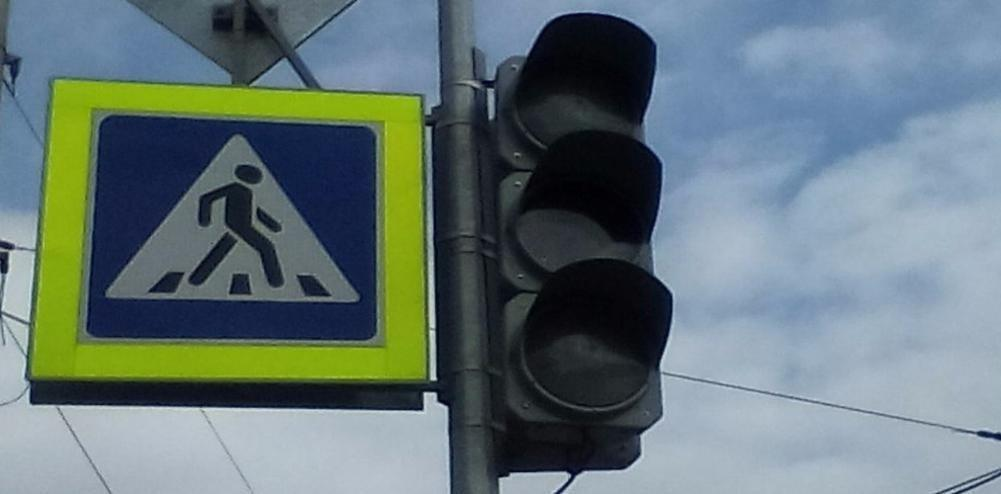off traffic light: (495, 11, 676, 434)
road_sign: (28, 79, 427, 384)
